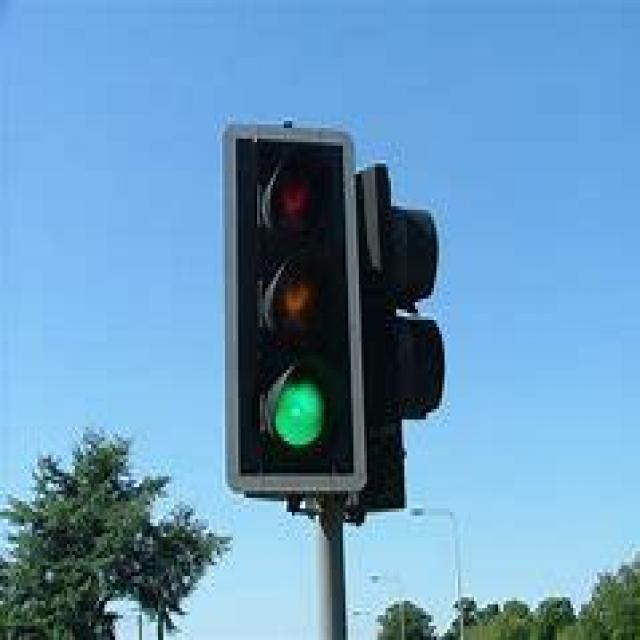green_light: (239, 139, 346, 466)
